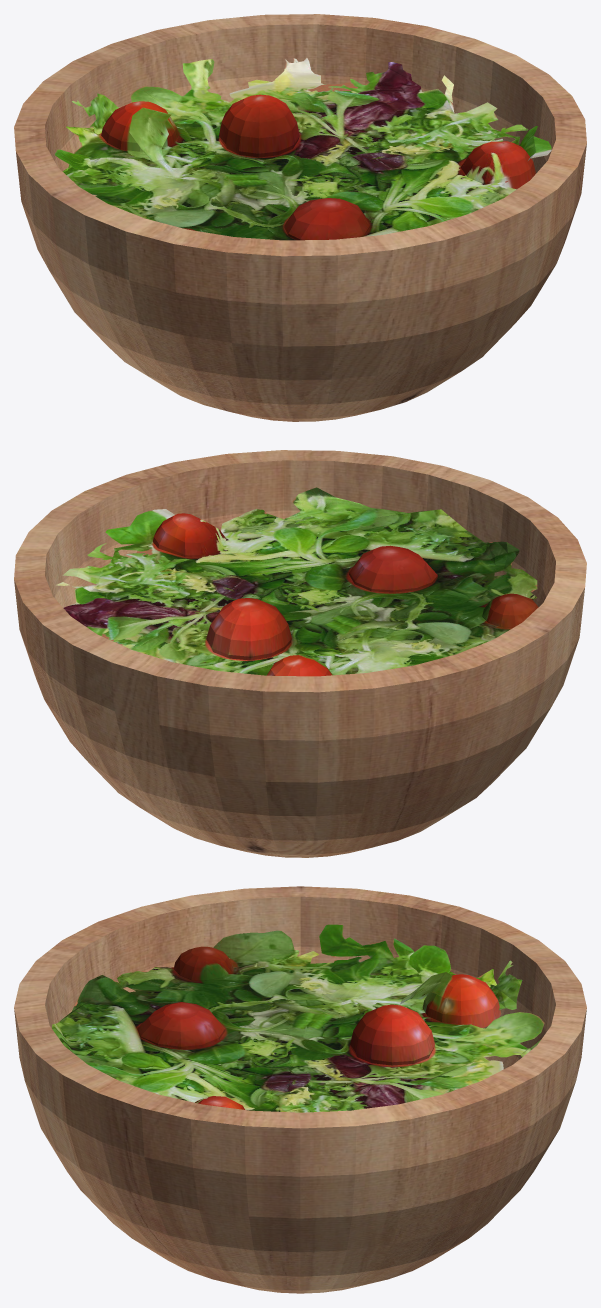
The model's file is sweethome3d-scopia-bowl-with-salad-355.glb.
3 views of the same model, one above another, from view 1: azimuth 30°, elevation 25°; view 2: azimuth 150°, elevation 25°; view 3: azimuth 270°, elevation 25° (orthographic).
Visible parts, largest first — view 1: bowl_Sphere.001, saladBase_Plane, tomatoes_Sphere, leaves_Plane.002; view 2: bowl_Sphere.001, saladBase_Plane, tomatoes_Sphere; view 3: bowl_Sphere.001, saladBase_Plane, tomatoes_Sphere, leaves_Plane.002.
Boxes of the visible parts, x1,y1,x2,y2 form: bowl_Sphere.001: (14, 14, 586, 421); saladBase_Plane: (62, 57, 551, 240); tomatoes_Sphere: (101, 94, 535, 240); leaves_Plane.002: (54, 93, 171, 170); bowl_Sphere.001: (14, 450, 586, 857); saladBase_Plane: (56, 487, 537, 675); tomatoes_Sphere: (153, 513, 538, 676); bowl_Sphere.001: (14, 886, 586, 1293); saladBase_Plane: (51, 924, 544, 1112); tomatoes_Sphere: (137, 946, 501, 1109); leaves_Plane.002: (387, 945, 522, 1010).
Bounding box in the file's own units: 24.96 × 11.68 × 24.96.
3 materials, 3 textured.
